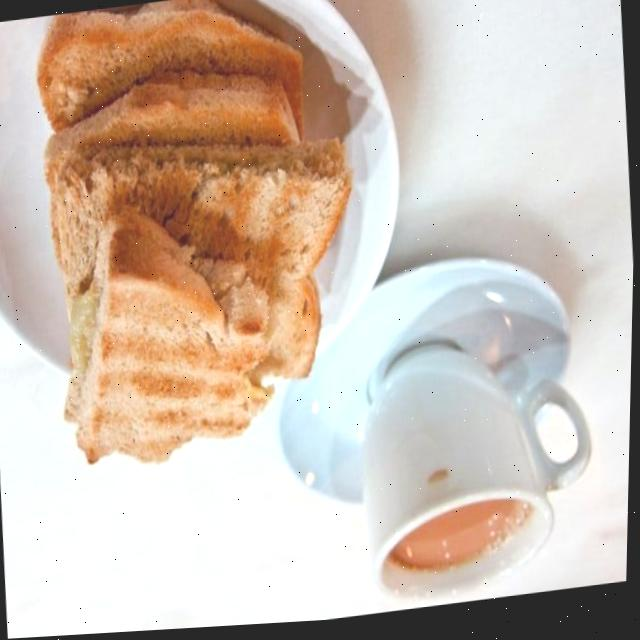面包点心: (1, 0, 386, 492)
